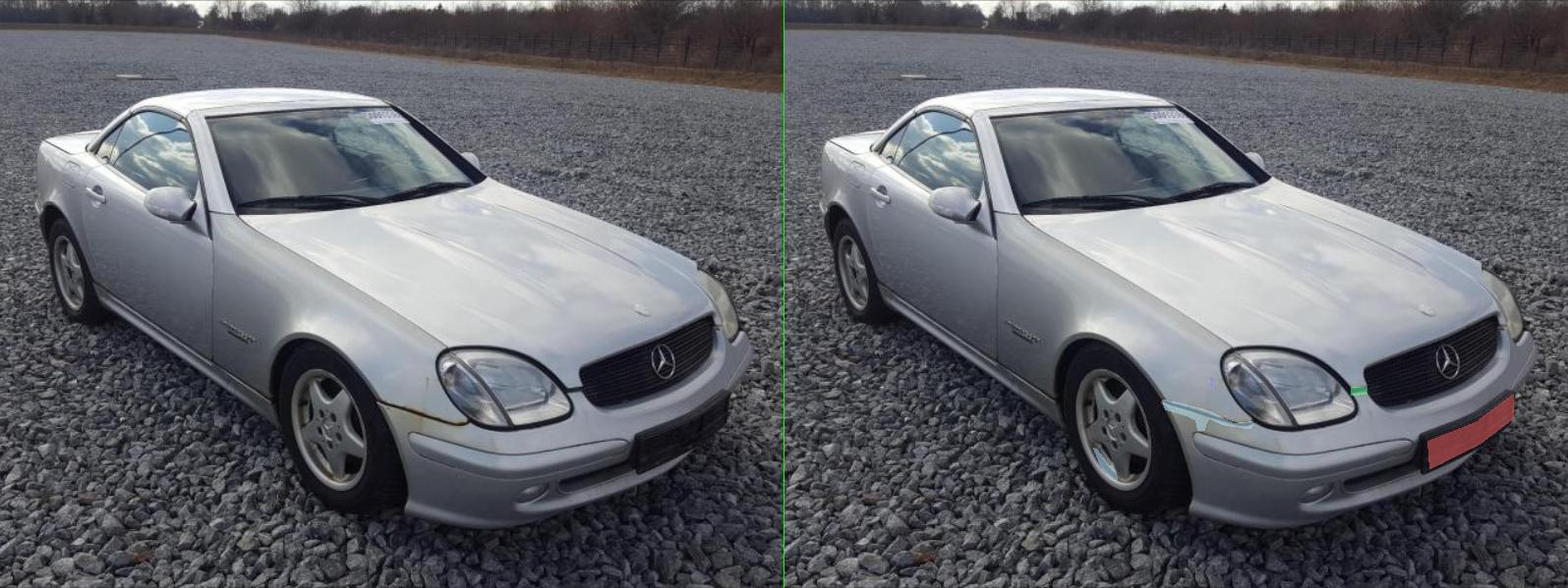Broken part: (1133, 387, 1165, 395)
Corrosion: (755, 400, 938, 430), (618, 448, 665, 480)
Missing part: (1287, 394, 1458, 468)
Scratch: (852, 376, 858, 390)
